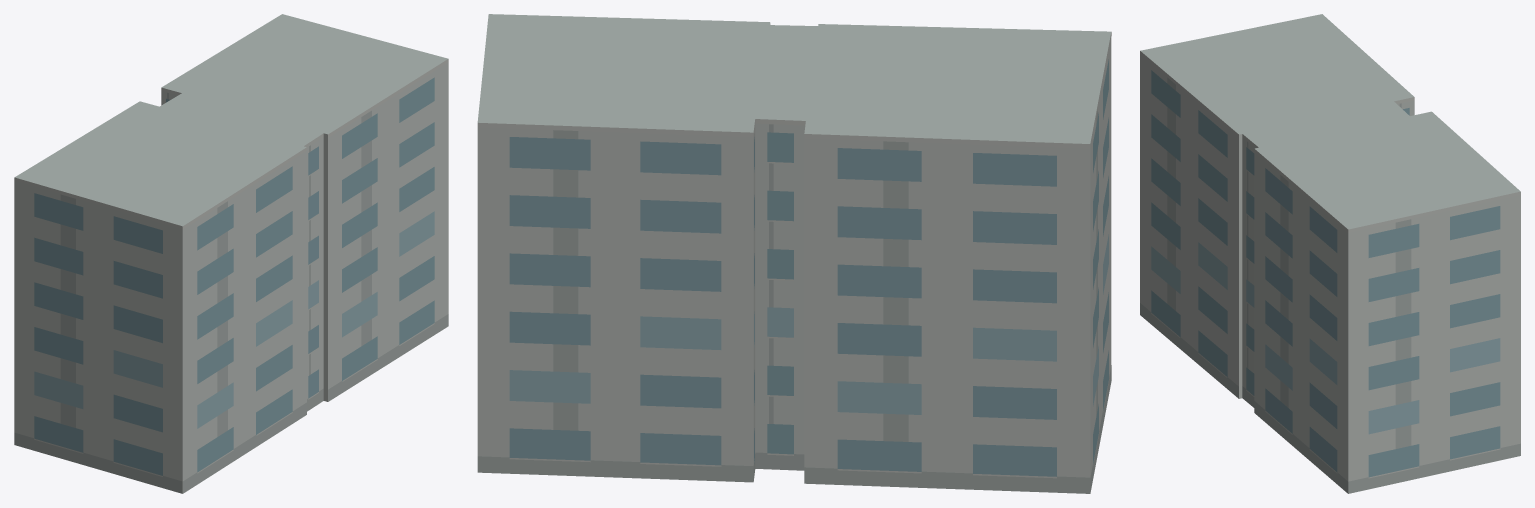
File: survey-upis-32808054.glb
3 views of the same model, side by side, from view 1: azimuth 30°, elevation 25°; view 2: azimuth 150°, elevation 25°; view 3: azimuth 270°, elevation 25° (orthographic). The views are drawn at different scales.
Visible parts, largest first — view 1: survey-upis-32808054.tmp; view 2: survey-upis-32808054.tmp; view 3: survey-upis-32808054.tmp.
Part boxes in pixels (x1=…): survey-upis-32808054.tmp: x1=14, y1=14, x2=448, y2=493; survey-upis-32808054.tmp: x1=477, y1=14, x2=1111, y2=493; survey-upis-32808054.tmp: x1=1140, y1=14, x2=1520, y2=493.
Size of the model in its own units: 31.92 by 18.25 by 23.83.
